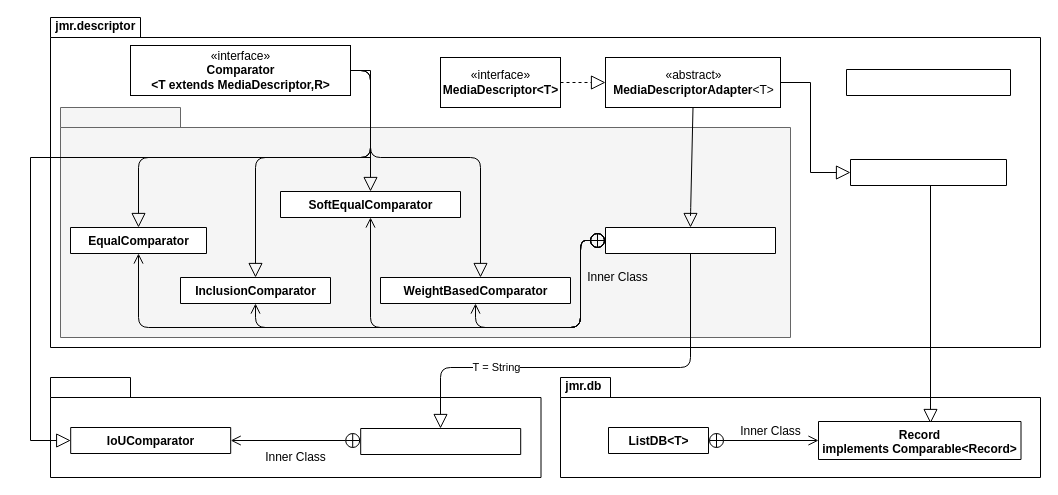
Some shapes in this 1058 by 495 pixel diagram are drawn without their labels. The shapes that lost their labels are listed below. From the top down, each one's box as (x1, y1, x2, y2) in pixels, then its label:
(846, 68, 1010, 96): MediaDescriptorFactory
(850, 158, 1006, 186): DescriptorList<T>
(60, 106, 790, 338): jmr.descriptor.label
(604, 226, 776, 254): LabelDescriptor<T>
(50, 376, 541, 478): jmr.detection
(360, 428, 521, 454): RegionLabelDescriptor
